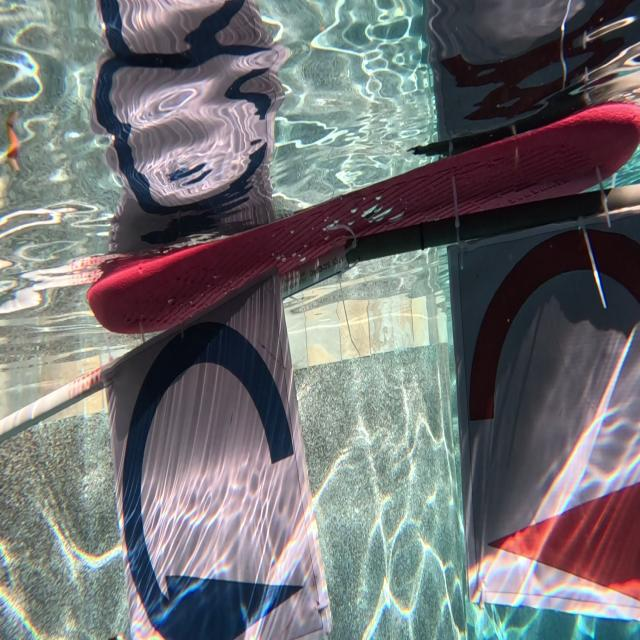blue_side: (84, 268, 332, 640)
red_side: (438, 202, 640, 618)
